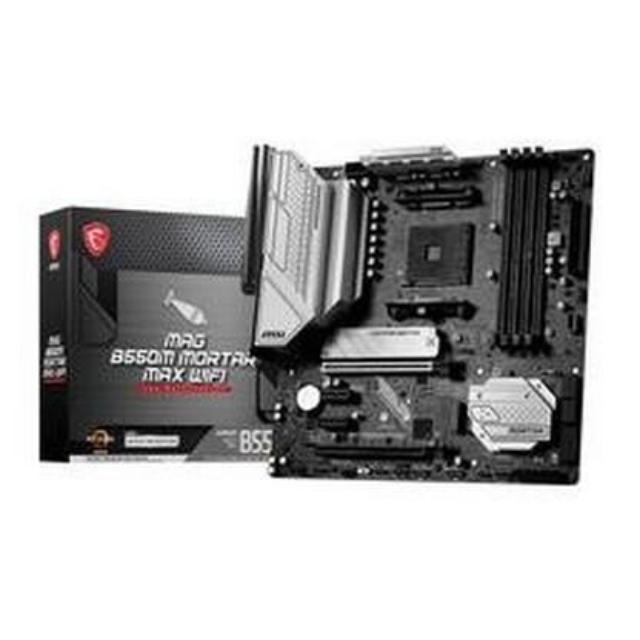Mainboard: (235, 134, 602, 492)
